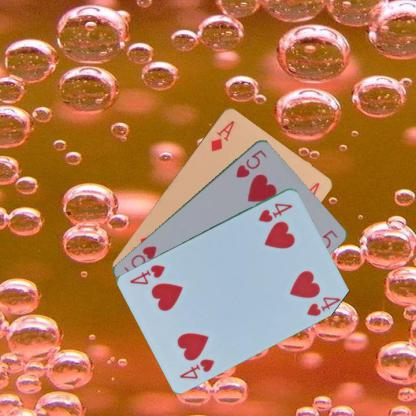4h: (255, 200, 294, 224), (177, 356, 216, 380)
5h: (233, 147, 268, 179)
Ad: (207, 118, 236, 152)
